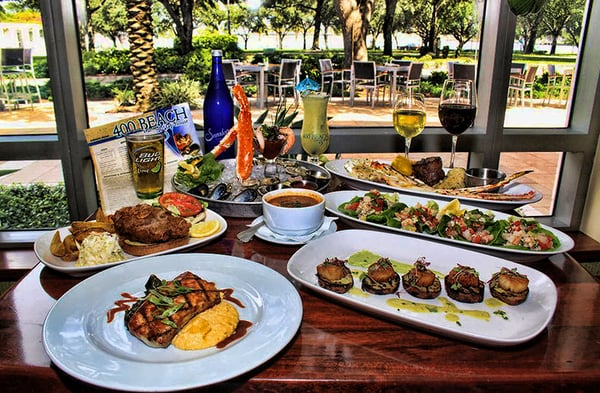soup: (124, 271, 233, 348)
sushi: (262, 187, 326, 237)
